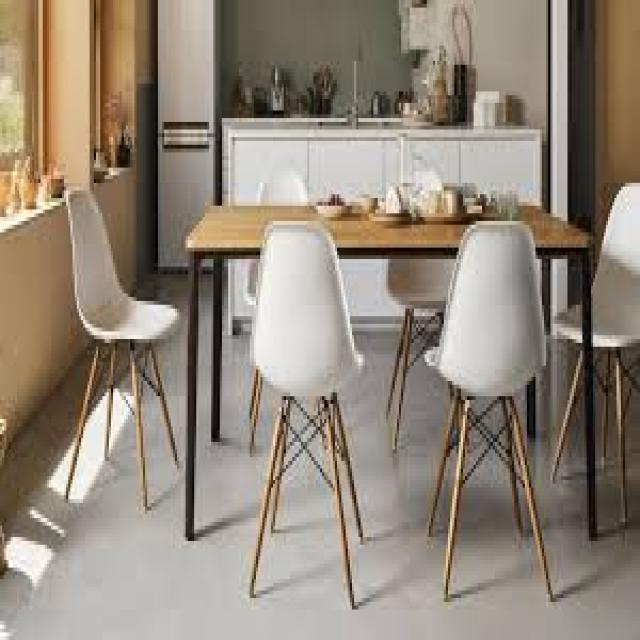chair: (396, 188, 568, 640), (25, 162, 207, 563), (224, 194, 380, 640), (521, 144, 640, 550), (212, 154, 357, 438), (372, 174, 492, 479)
